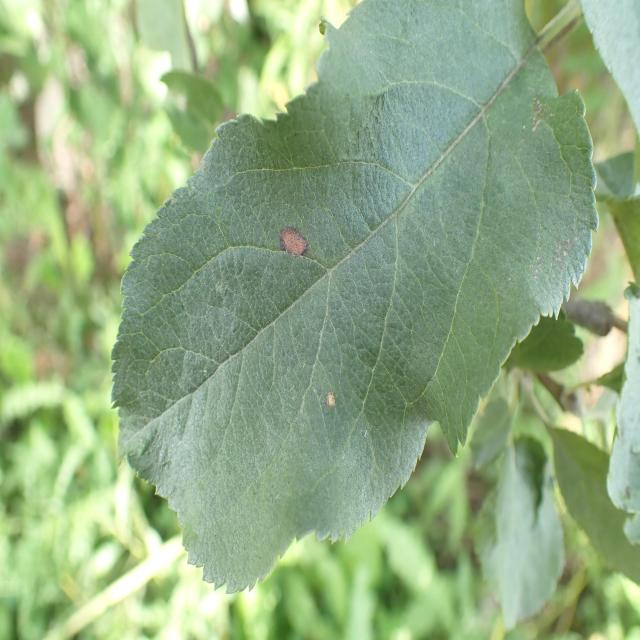frog-eye-leaf-spot: (109, 0, 599, 595)
